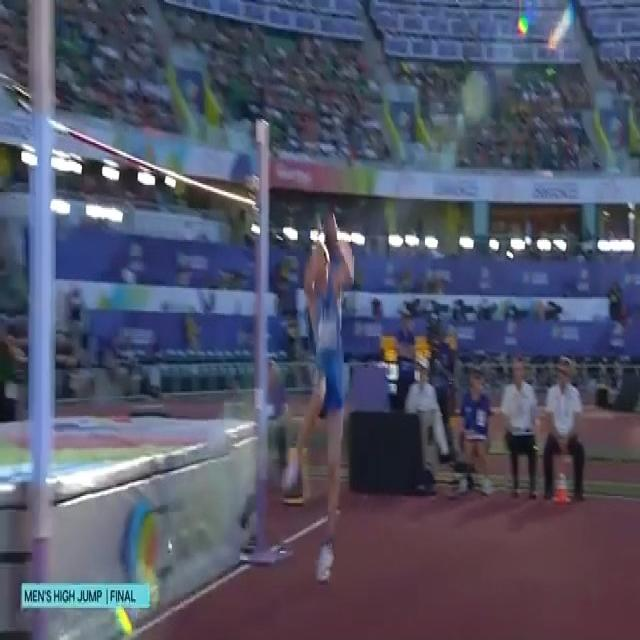jump: (285, 218, 354, 583)
